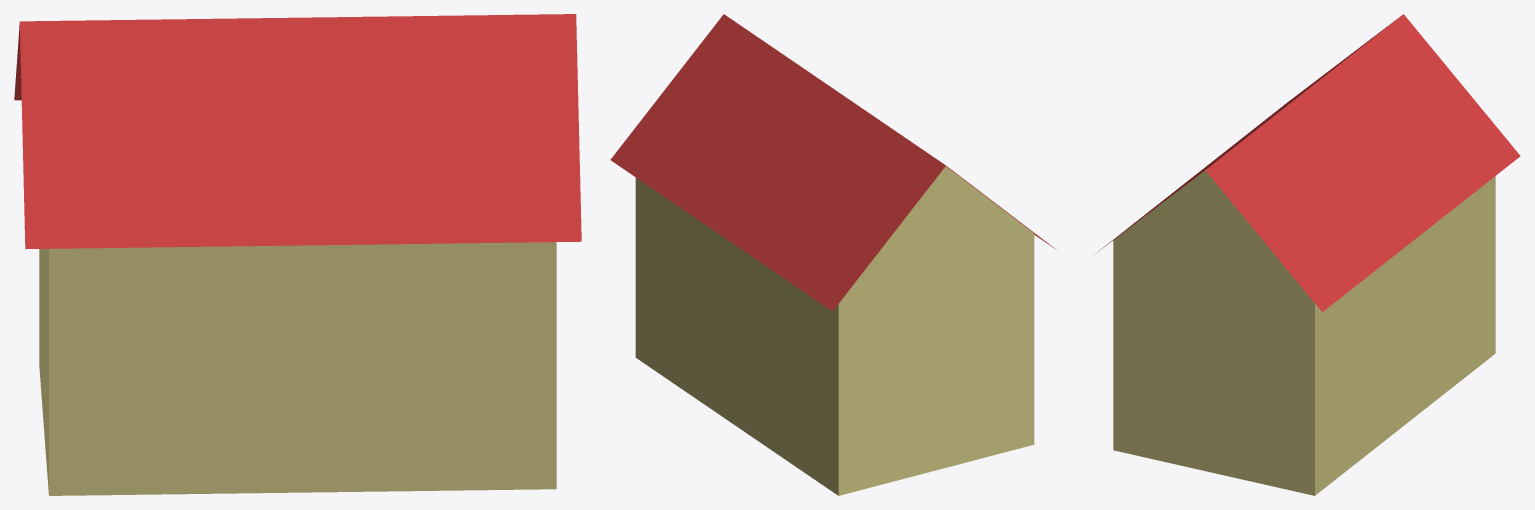
3 views of the same model, side by side, from view 1: azimuth 30°, elevation 25°; view 2: azimuth 150°, elevation 25°; view 3: azimuth 270°, elevation 25° (orthographic). The views are drawn at different scales.
Bounding box in the file's own units: 26.91 × 23.49 × 18.56.
